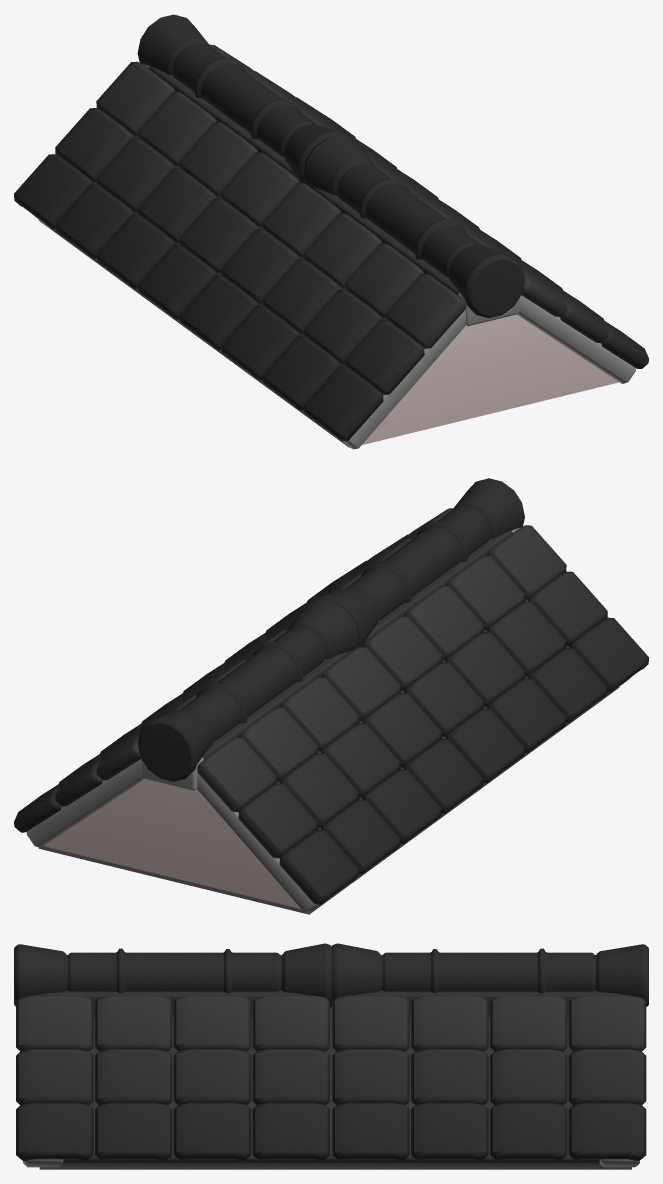
The model's file is SM_Wood_Roof_03.fbx.
The picture shows the model from 3 angles, top to bottom: view 1: azimuth 30°, elevation 25°; view 2: azimuth 150°, elevation 25°; view 3: azimuth 270°, elevation 25°; orthographic projection. The views are drawn at different scales.
Visible parts, largest first — view 1: SM_Wood_Roof_03; view 2: SM_Wood_Roof_03; view 3: SM_Wood_Roof_03.
Part boxes in pixels (bbox=[...]): SM_Wood_Roof_03: bbox=[14, 14, 648, 449]; SM_Wood_Roof_03: bbox=[14, 478, 648, 914]; SM_Wood_Roof_03: bbox=[14, 943, 648, 1169].
Bounding box in the file's own units: 1.08 × 0.5507 × 1.98.
